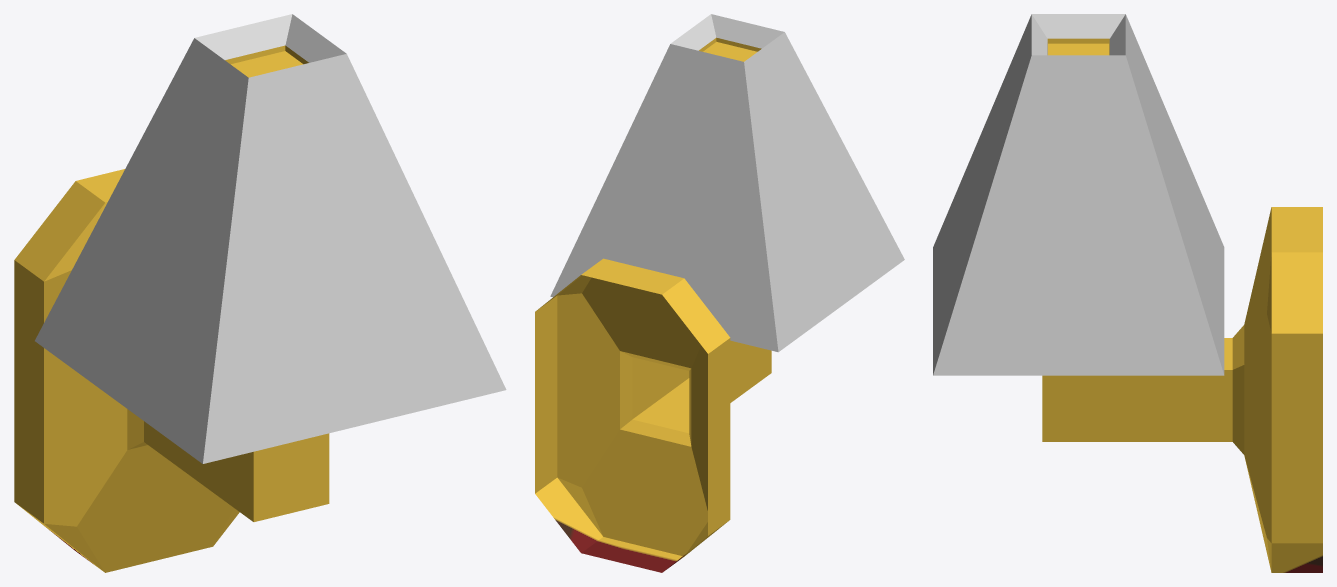
Rendered from light.fbx.
3 views of the same model, side by side, from view 1: azimuth 30°, elevation 25°; view 2: azimuth 150°, elevation 25°; view 3: azimuth 270°, elevation 25° (orthographic). The views are drawn at different scales.
Parts seen in each view (by area): view 1: Light; view 2: Light; view 3: Light.
Part boxes in pixels (x1=…): Light: x1=14, y1=14, x2=506, y2=572; Light: x1=535, y1=14, x2=904, y2=572; Light: x1=933, y1=14, x2=1322, y2=572.
Size of the model in its own units: 0.37 by 0.693 by 0.475.
2 materials, 1 textured.
